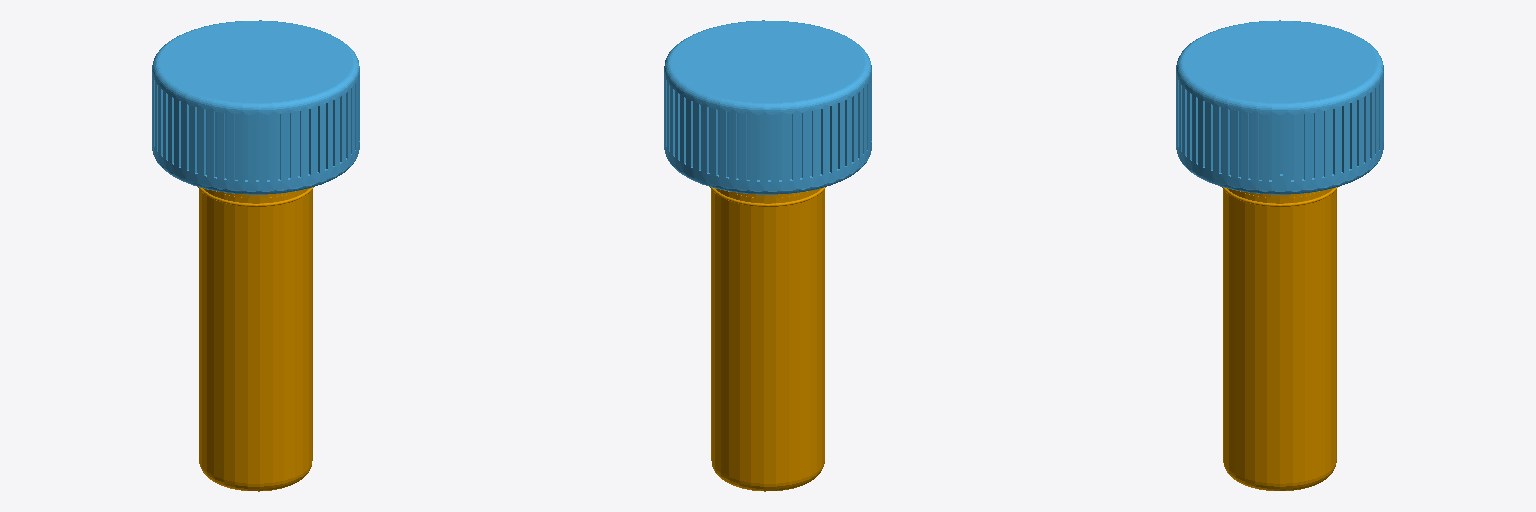
The robot description file, URDF, robot "universal-polypropylene-tube":
<?xml version="1.0"?>
<robot name="universal-polypropylene-tube">

  <link name="universal-pp-base">
    <visual>
      <geometry>
        <mesh filename="../../meshes/polypropene-base-2.obj" scale="0.1 0.1 0.1"/>
      </geometry>
    </visual>
    <collision>
      <geometry>
        <mesh filename="../../meshes/polypropene-base-2.obj" scale="0.1 0.1 0.1"/>
      </geometry>
    </collision>
    <inertial>
      <mass value="0.010"/>
      <inertia ixx="0.1" iyy="0.1" izz="0.1" ixy="0" ixz="0" iyz="0"/>
    </inertial>
    <contact>
      <lateral_friction value="0.35"/>
      <rolling_friction value="0.002"/>
      <spinning_friction value="0.002"/>
      <restitution value="0.05"/>
    </contact>
  </link>

  <link name="universal-pp-cap">
    <visual>
      <geometry>
        <mesh filename="../../meshes/polypropene-cap-1.obj" scale="0.1 0.1 0.1"/>
      </geometry>
    </visual>
    <collision>
      <geometry>
        <mesh filename="../../meshes/polypropene-cap-1.obj" scale="0.1 0.1 0.1"/>
      </geometry>
    </collision>
    <inertial>
      <mass value="0.008"/>
      <inertia ixx="0.01" iyy="0.01" izz="0.01" ixy="0" ixz="0" iyz="0"/>
    </inertial>
    <contact>
      <lateral_friction value="0.30"/>
      <rolling_friction value="0.002"/>
      <spinning_friction value="0.002"/>
      <restitution value="0.05"/>
    </contact>
  </link>
  <joint name="base_to_cap" type="revolute">
    <parent link="universal-pp-base"/>
    <child link="universal-pp-cap"/>
    <origin xyz="0 0 0.3" rpy="0 0 0"/>
    <axis xyz="0 0 1"/>
    <limit lower="-31.4" upper="31.4" effort="10" velocity="5"/>
    <dynamics damping="0.1" friction="0.05"/>
  </joint>

</robot>

--- What the picture shows (computed from the rendered views, not written in the file) ---
The picture shows the robot from 3 angles, left to right: view 1: azimuth 30°, elevation 25°; view 2: azimuth 150°, elevation 25°; view 3: azimuth 270°, elevation 25°; orthographic projection.
Model universal-polypropylene-tube with 2 links and 1 joints (1 revolute), rooted at universal-pp-base, posed all joints at 0.
Links seen in each view (by area): view 1: universal-pp-base, universal-pp-cap; view 2: universal-pp-base, universal-pp-cap; view 3: universal-pp-base, universal-pp-cap.
Link boxes in pixels (left/top/right/bottom): universal-pp-base: left=198, top=187, right=313, bottom=491; universal-pp-cap: left=152, top=20, right=359, bottom=194; universal-pp-base: left=710, top=187, right=825, bottom=491; universal-pp-cap: left=664, top=20, right=871, bottom=194; universal-pp-base: left=1222, top=187, right=1337, bottom=490; universal-pp-cap: left=1176, top=20, right=1383, bottom=194.
Bounding box of the posed robot: 0.31 × 0.31 × 0.675 m (x, y, z).
2 mesh visuals loaded from 2 distinct referenced files (2 OBJ).
